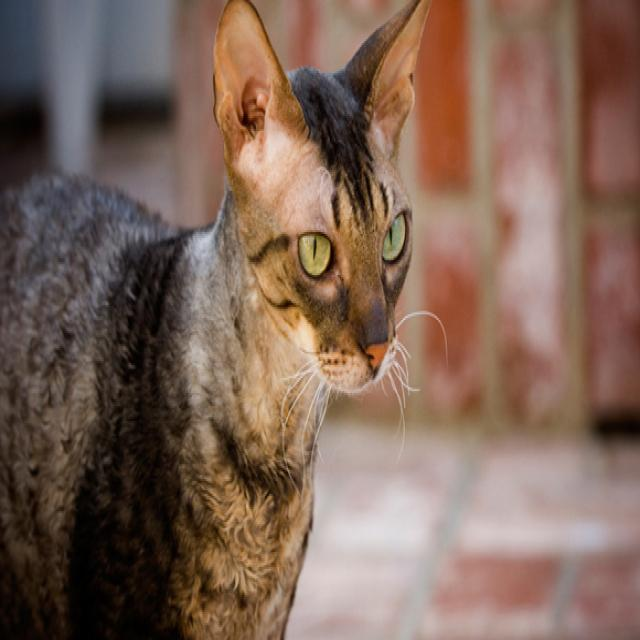Cornish Rex: (0, 0, 445, 640)
